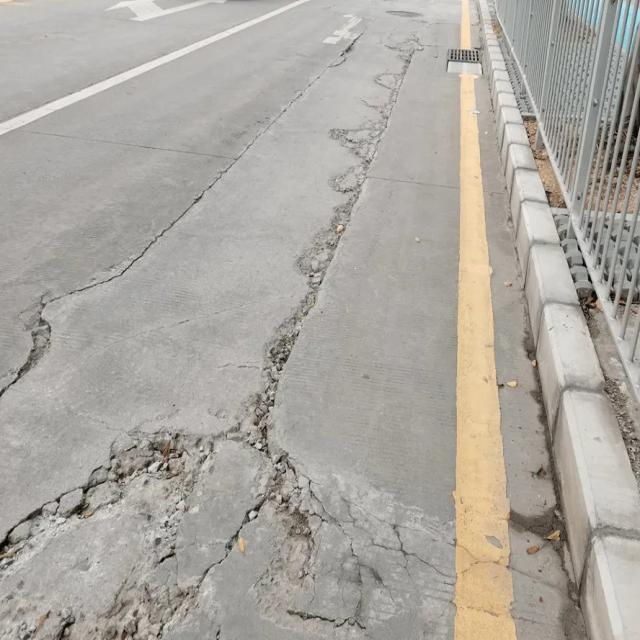Pothole: (263, 25, 436, 628), (0, 425, 238, 584), (5, 291, 62, 404)
